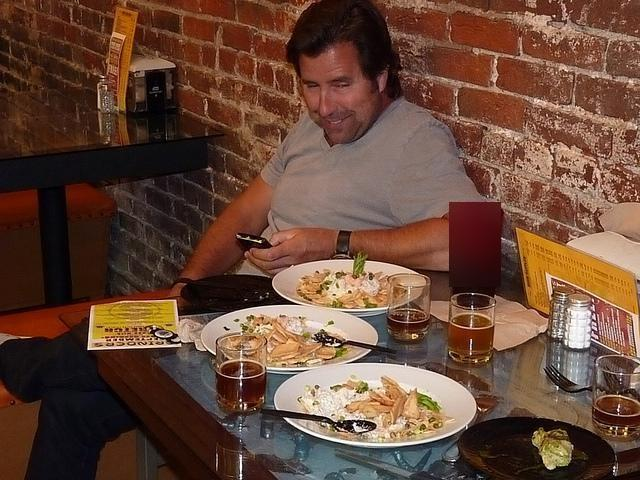glass-normal: (215, 332, 267, 414), (591, 355, 640, 442), (446, 292, 496, 365), (386, 273, 431, 342)
